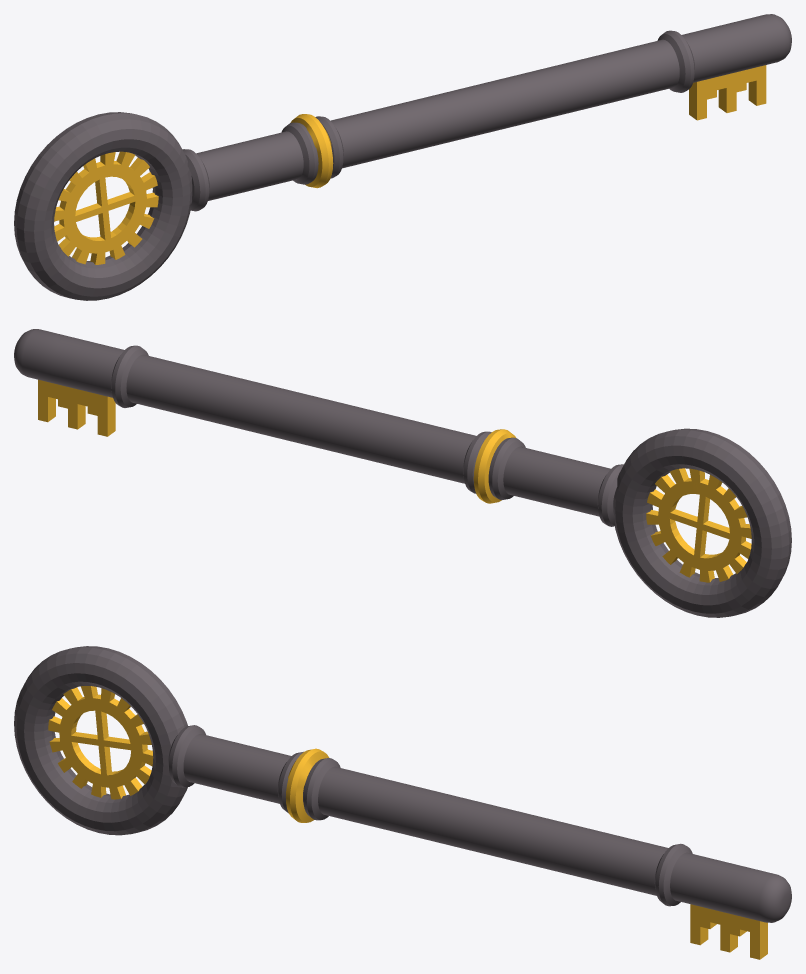
Rendered from Keytomyheart.fbx.
3 views of the same model, one above another, from view 1: azimuth 30°, elevation 25°; view 2: azimuth 150°, elevation 25°; view 3: azimuth 330°, elevation 25° (orthographic).
Parts seen in each view (by area): view 1: Rod, Ring, Gear, Teeth; view 2: Rod, Ring, Gear, Teeth; view 3: Rod, Ring, Gear, Teeth.
Boxes of the visible parts, x1,y1,x2,y2 form: Rod: [182, 14, 791, 211]; Ring: [14, 112, 192, 300]; Gear: [54, 151, 158, 264]; Teeth: [689, 65, 766, 120]; Rod: [14, 329, 623, 526]; Ring: [613, 428, 791, 617]; Gear: [646, 468, 751, 582]; Teeth: [38, 379, 115, 436]; Rod: [168, 725, 791, 922]; Ring: [14, 646, 187, 835]; Gear: [48, 686, 153, 799]; Teeth: [690, 904, 767, 959].
Size of the model in its own units: 1106 by 250 by 94.76.
